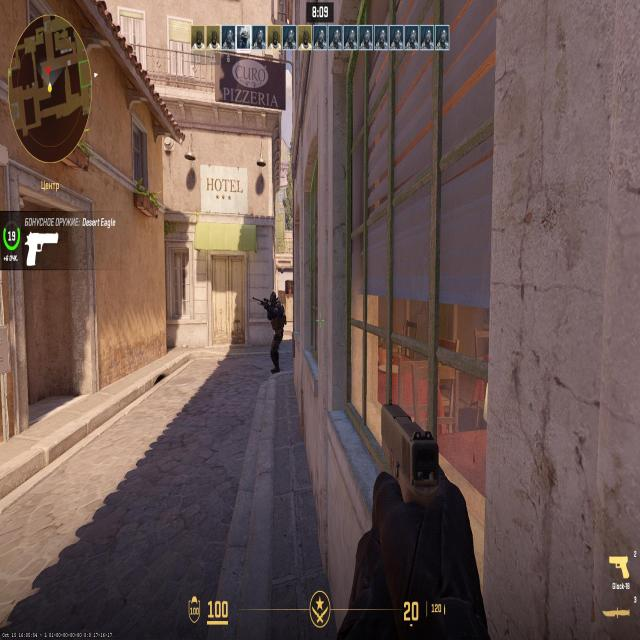CT: (268, 290, 284, 372)
CT_heat: (270, 295, 274, 304)
